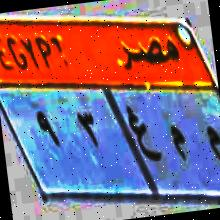3: (77, 106, 101, 161)
9: (33, 103, 62, 157)
ghayn: (124, 97, 162, 172)
meem: (167, 115, 190, 171), (201, 115, 220, 173)
